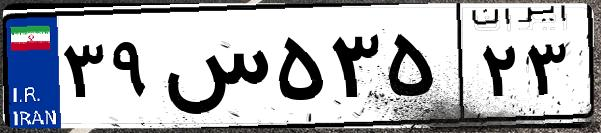2: (475, 38, 525, 113)
3: (330, 28, 385, 110), (57, 26, 110, 100), (525, 38, 570, 115)
5: (270, 28, 330, 110), (385, 28, 445, 110)
9: (110, 28, 158, 98)
س: (158, 20, 270, 120)
